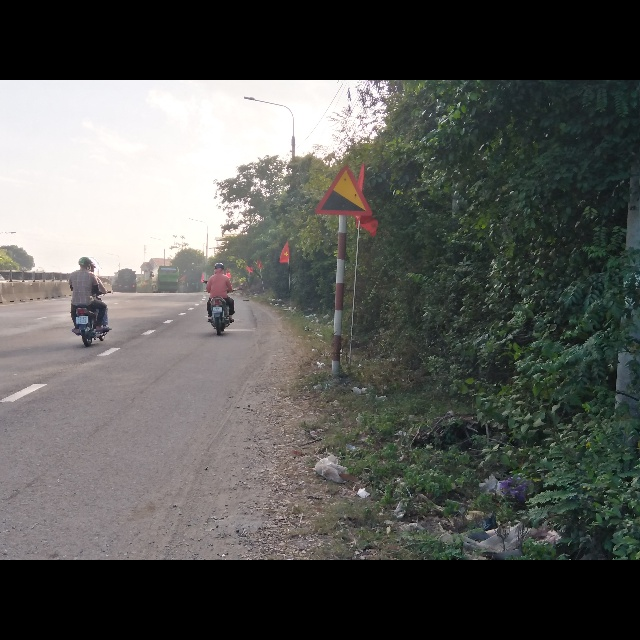Dốc lên nguy hiểm: (314, 162, 371, 216)
